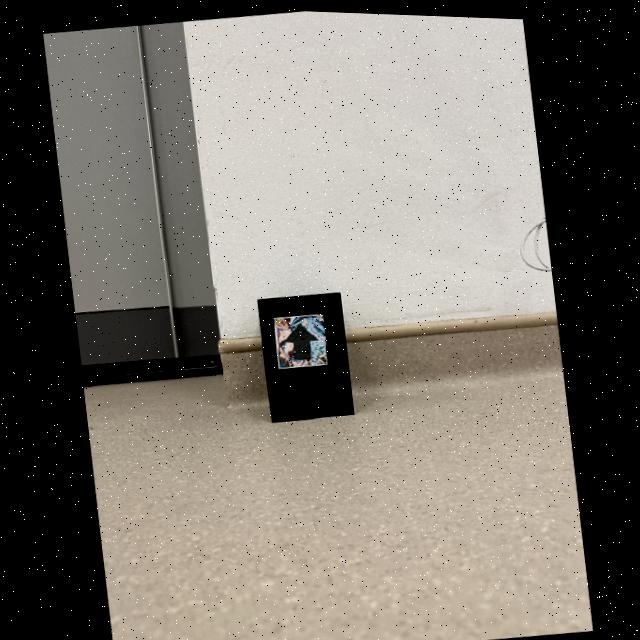UP: (285, 321, 320, 357)
